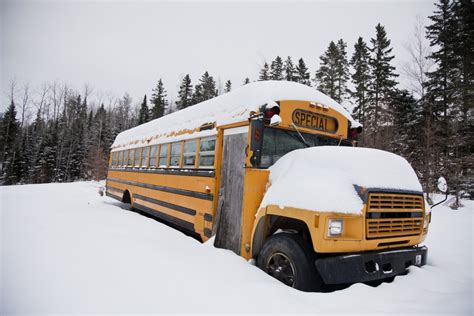bus: (109, 97, 431, 285)
